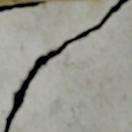brick: (10, 0, 131, 131), (0, 0, 116, 131)
crack: (2, 0, 130, 131), (0, 0, 46, 12)
